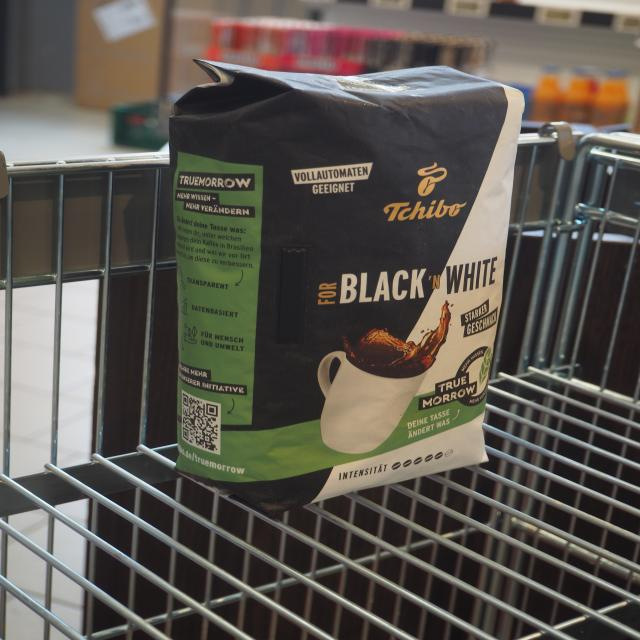BW Bohne: (149, 38, 532, 518)
